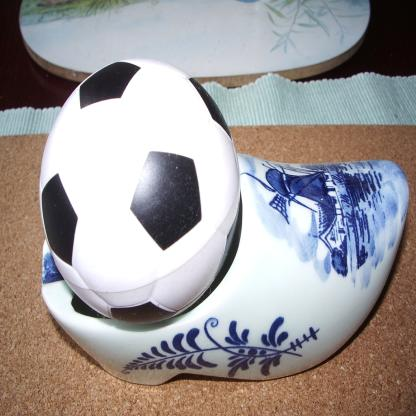ball: (37, 55, 244, 330)
